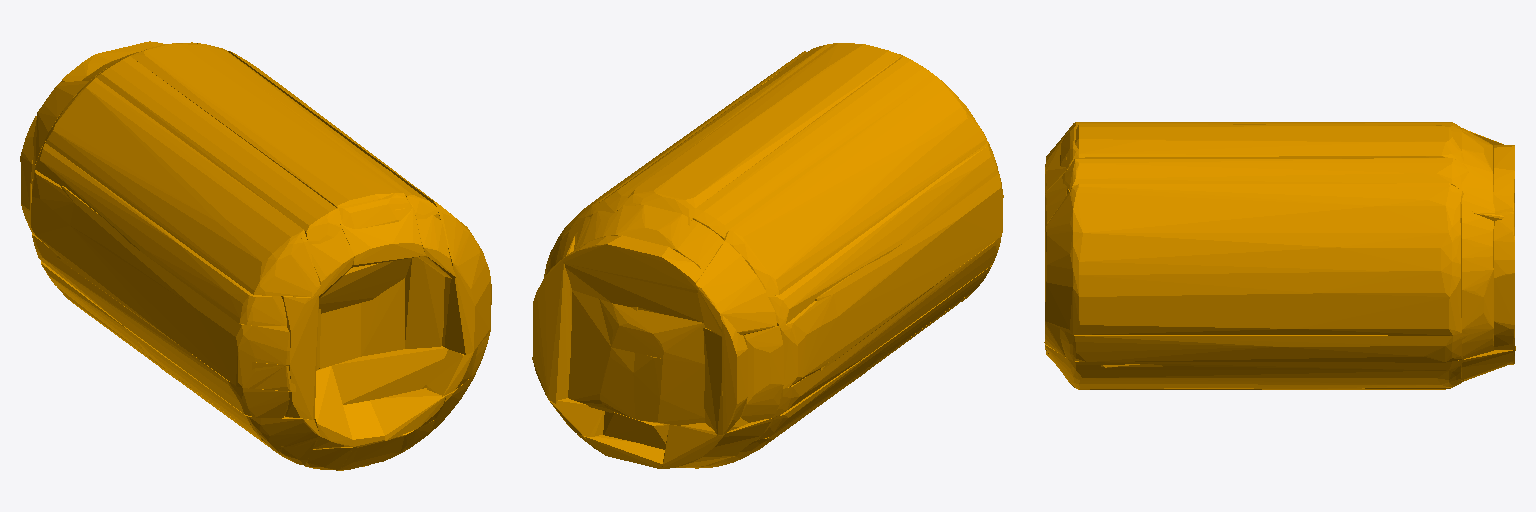
The robot description file, URDF, robot "can-fanta":
<?xml version="1.0" ?>
<robot name="can-fanta">
  <link name="baseLink">
    <contact>
      <lateral_friction value="1.0"/>
      <inertia_scaling value="3.0"/>
    </contact>
    <inertial>
      <origin rpy="0 0 0" xyz="0.000 0.000 0.000"/>
       <mass value=".1"/>
       <inertia ixx="1" ixy="0.0" ixz="0.0" iyy="1" iyz="0.0" izz="1"/>
    </inertial>
    <visual>
      <origin rpy="0 0 0" xyz="0 0 0"/>
      <geometry>
        <mesh filename="can/can-fanta.obj" scale="1.0 1.0 1.0"/>
      </geometry>
    </visual>
    <collision>
      <origin rpy="0 0 0" xyz="0 0 0"/>
      <geometry>
        <mesh filename="../collision/can/can-fanta.obj" scale="1.0 1.0 1.0"/>
      </geometry>
    </collision>
  </link>
</robot>
        

--- What the picture shows (computed from the rendered views, not written in the file) ---
Views: 3 orthographic renders of the robot side by side, from view 1: azimuth 30°, elevation 25°; view 2: azimuth 150°, elevation 25°; view 3: azimuth 270°, elevation 25°.
Model can-fanta with 1 links and 0 joints (none), rooted at baseLink, posed all joints at 0.
Visible links, largest first — view 1: baseLink; view 2: baseLink; view 3: baseLink.
Boxes of the visible links, x1=… form: baseLink: x1=20, y1=41, x2=491, y2=470; baseLink: x1=532, y1=43, x2=1003, y2=468; baseLink: x1=1044, y1=122, x2=1515, y2=389.
Bounding box of the posed robot: 0.0656 × 0.1155 × 0.0661 m (x, y, z).
1 mesh visuals loaded from 1 distinct referenced files (1 OBJ).